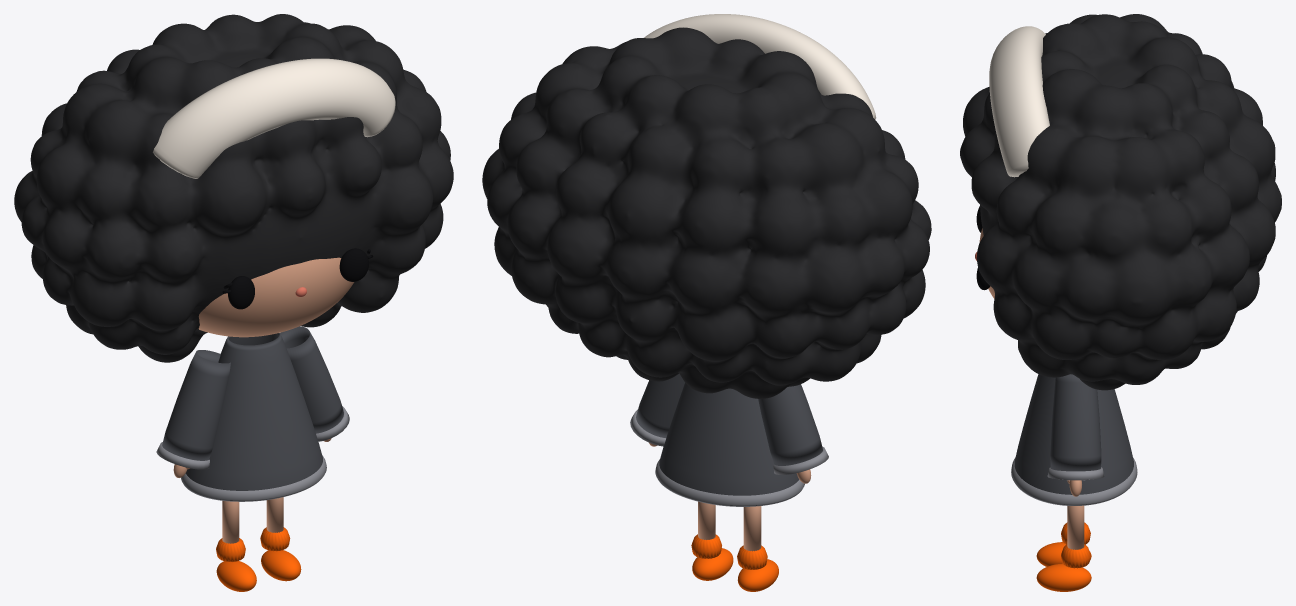
Rendered from eliya-cloud-mascot.glb.
3 views of the same model, side by side, from view 1: azimuth 30°, elevation 25°; view 2: azimuth 150°, elevation 25°; view 3: azimuth 270°, elevation 25° (orthographic). The views are drawn at different scales.
Visible parts, largest first — view 1: Hair_Afro_Cloud, Headband, Dress_Smock, Head, Sleeve_L, Sleeve_R, Dress_Hem_Trim, Boot_R, Boot_L, Eye_R, Leg_L, Eye_L (+1 smaller); view 2: Hair_Afro_Cloud, Dress_Smock, Headband, Sleeve_L, Sleeve_R, Dress_Hem_Trim, Boot_R, Boot_L, Leg_L, Leg_R; view 3: Hair_Afro_Cloud, Headband, Dress_Smock, Sleeve_R, Boot_R, Dress_Hem_Trim, Leg_R, Boot_L, SleeveCuff_R.
Boxes of the visible parts, x1,y1,x2,y2 form: Hair_Afro_Cloud: (14, 14, 453, 362); Headband: (153, 58, 395, 178); Dress_Smock: (185, 333, 322, 490); Head: (198, 257, 354, 337); Sleeve_L: (162, 350, 230, 460); Sleeve_R: (280, 326, 343, 433); Dress_Hem_Trim: (181, 455, 326, 501); Boot_R: (260, 527, 301, 581); Boot_L: (216, 538, 256, 591); Eye_R: (339, 248, 368, 281); Leg_L: (222, 501, 239, 543); Eye_L: (228, 276, 254, 309); Hair_Afro_Cloud: (482, 27, 931, 398); Dress_Smock: (659, 382, 799, 495); Headband: (644, 14, 876, 119); Sleeve_L: (758, 384, 822, 465); Sleeve_R: (636, 373, 684, 437); Dress_Hem_Trim: (655, 459, 804, 506); Boot_R: (691, 534, 733, 580); Boot_L: (737, 545, 778, 591); Leg_L: (743, 506, 761, 551); Leg_R: (698, 501, 715, 539); Hair_Afro_Cloud: (960, 14, 1281, 390); Headband: (989, 26, 1049, 177); Dress_Smock: (1014, 374, 1133, 494); Sleeve_R: (1050, 374, 1101, 471); Boot_R: (1036, 544, 1091, 591); Dress_Hem_Trim: (1011, 457, 1137, 505); Leg_R: (1067, 505, 1084, 549); Boot_L: (1036, 522, 1091, 566); SleeveCuff_R: (1047, 467, 1104, 480).
Bounding box in the file's own units: 0.8733 × 1.1 × 0.6012.
